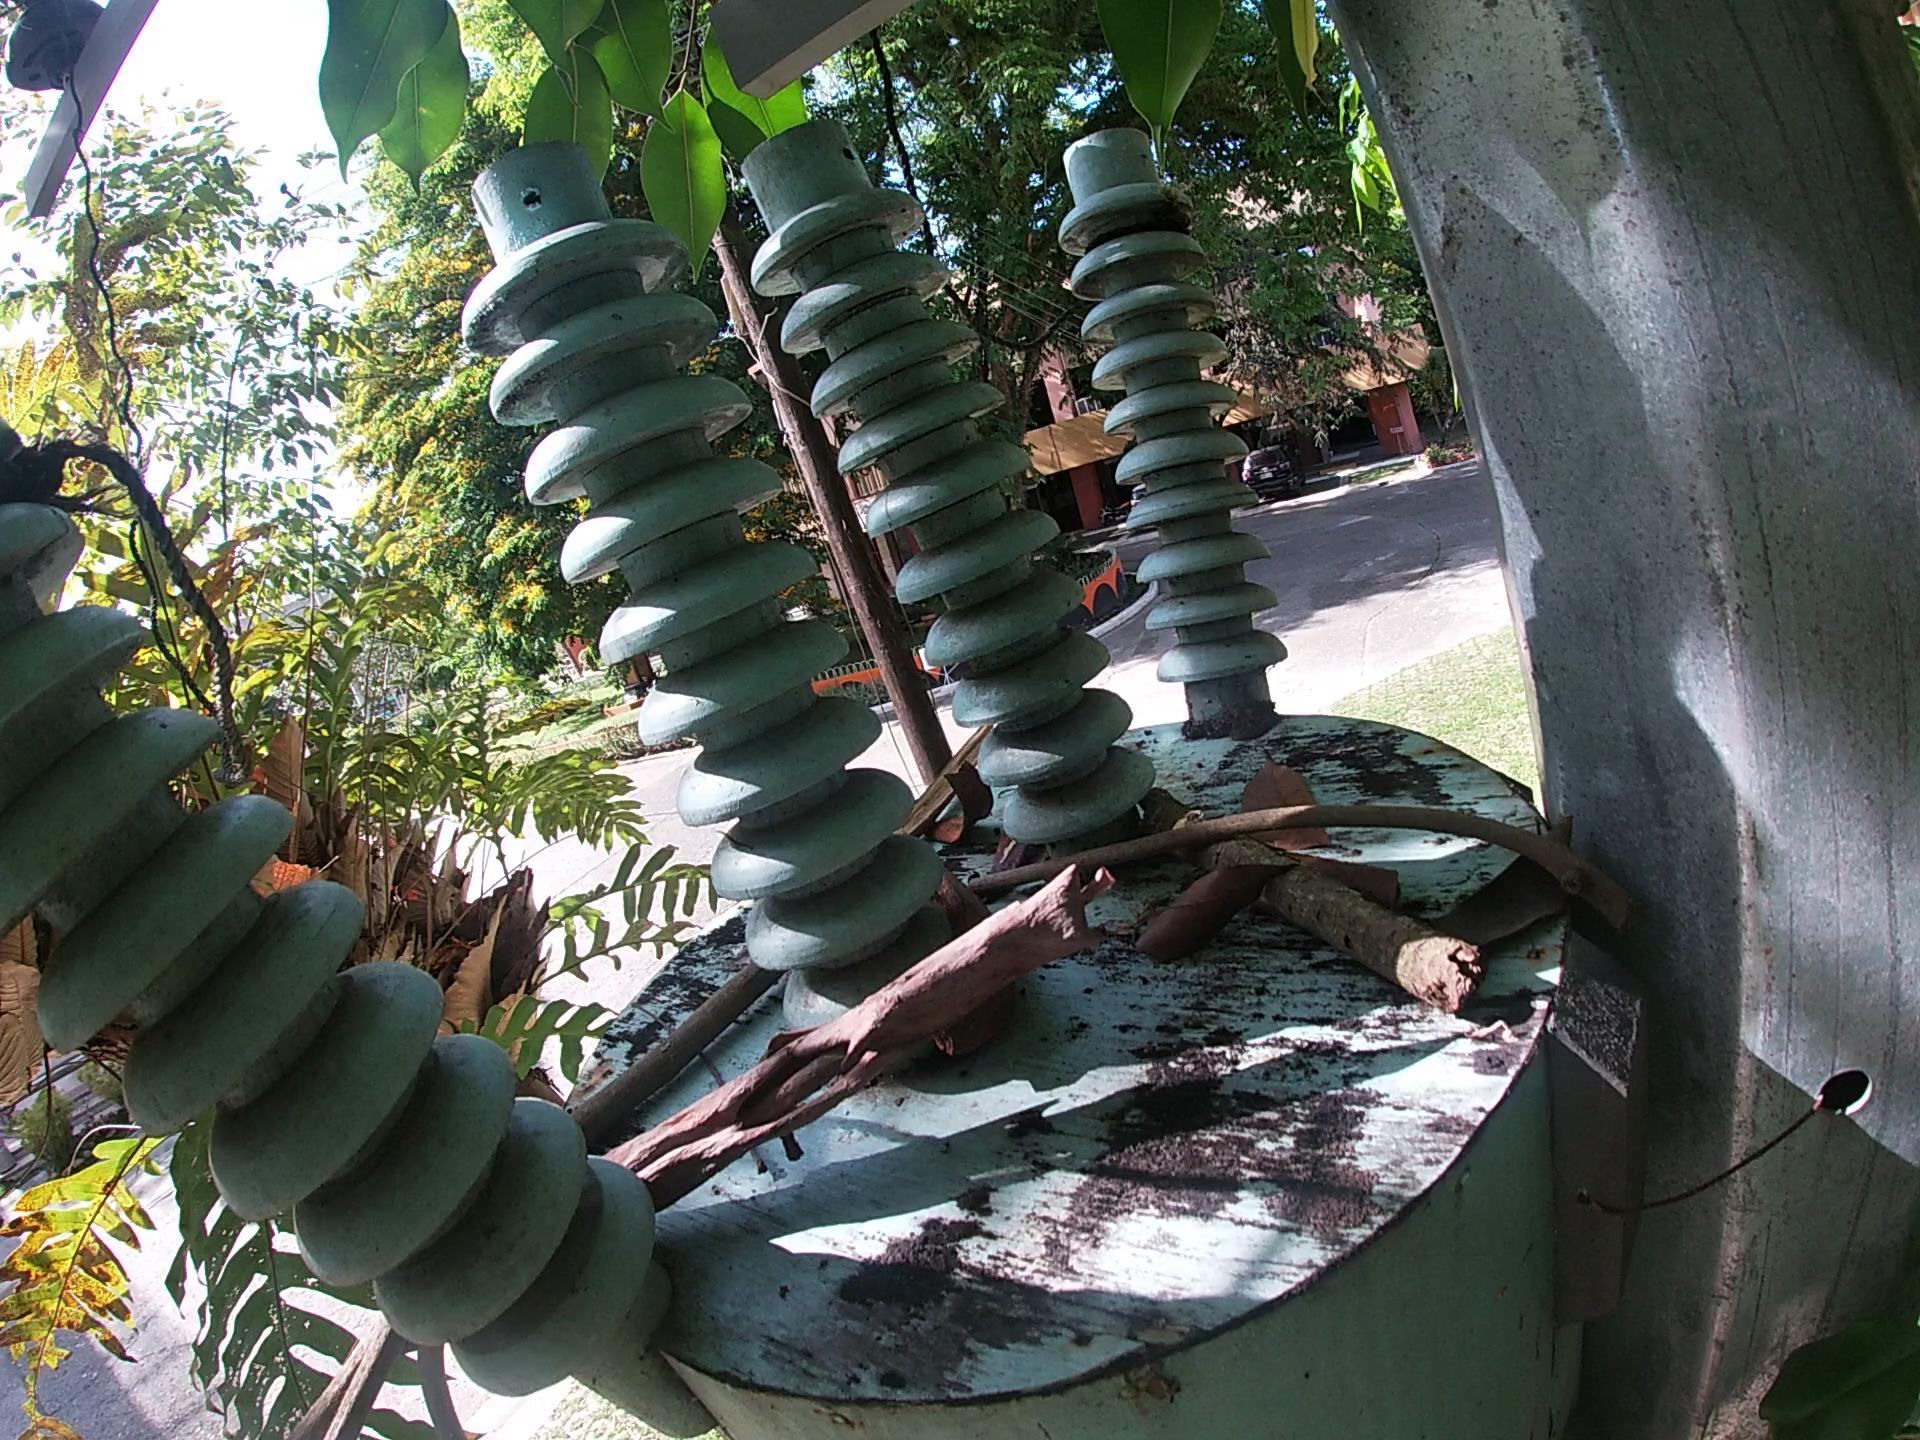leaf: (1468, 805, 1624, 951), (1241, 746, 1364, 855), (1144, 877, 1235, 980), (1329, 861, 1412, 920)
mahogany fruit: (946, 979, 1045, 1054), (936, 767, 1002, 844), (936, 880, 990, 923)
tree branch: (602, 873, 1123, 1201), (901, 799, 1609, 894), (1223, 836, 1507, 1038), (555, 959, 788, 1122), (283, 1311, 417, 1435), (893, 722, 984, 827), (698, 1029, 742, 1088), (751, 1151, 771, 1187)
